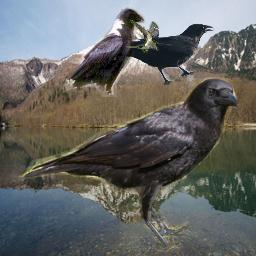Crow: (16, 77, 237, 252), (63, 5, 145, 97), (110, 23, 215, 85)
Swallow: (127, 19, 159, 53)
